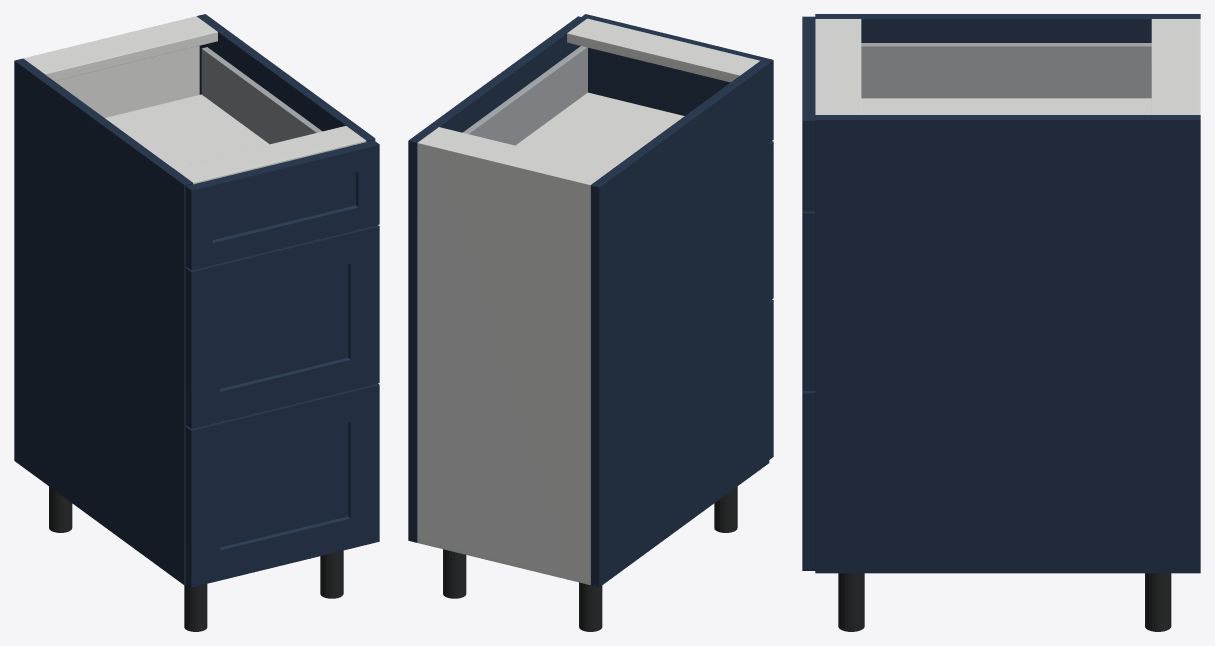
Rendered from oppein-pb-bss-3db15.glb.
3 views of the same model, side by side, from view 1: azimuth 30°, elevation 25°; view 2: azimuth 150°, elevation 25°; view 3: azimuth 270°, elevation 25° (orthographic). The views are drawn at different scales.
Parts seen in each view (by area): view 1: Cabinet side, Drawer front.001, Drawer front, Drawer front.002, Cabinet back, Drawer floor.002, Drawer side.005, Top support rail, Cabinet side.001, Top support rail.001, Adjustable foot.001, Adjustable foot.003 (+1 smaller); view 2: Cabinet side, Cabinet back, Cabinet side.001, Drawer floor.002, Drawer front.002, Drawer side.005, Top support rail.001, Top support rail, Cabinet bottom, Adjustable foot, Adjustable foot.002, Adjustable foot.001 (+2 smaller); view 3: Cabinet side.001, Drawer side.004, Cabinet side, Drawer floor.002, Top support rail.001, Top support rail, Drawer front.002, Drawer front, Drawer front.001, Adjustable foot.002, Adjustable foot.003, Cabinet back.
Part boxes in pixels (x1,y1,x2,y2): Cabinet side: (14, 58, 192, 585); Drawer front.001: (185, 225, 379, 428); Drawer front: (185, 383, 379, 587); Drawer front.002: (185, 140, 379, 270); Cabinet back: (23, 16, 199, 117); Drawer floor.002: (105, 94, 269, 167); Drawer side.005: (201, 47, 322, 144); Top support rail: (26, 18, 217, 80); Cabinet side.001: (197, 14, 375, 141); Top support rail.001: (173, 126, 366, 184); Adjustable foot.001: (184, 584, 207, 631); Adjustable foot.003: (320, 550, 343, 598); Cabinet side: (590, 61, 769, 587); Cabinet back: (417, 140, 593, 584); Cabinet side.001: (408, 16, 586, 542); Drawer floor.002: (516, 92, 684, 168); Drawer front.002: (582, 14, 773, 142); Drawer side.005: (463, 46, 587, 145); Top support rail.001: (567, 18, 759, 82); Top support rail: (421, 127, 611, 183); Cabinet bottom: (417, 534, 590, 584); Adjustable foot: (579, 582, 602, 631); Adjustable foot.002: (443, 549, 466, 598); Adjustable foot.001: (714, 486, 737, 532); Cabinet side.001: (815, 115, 1200, 573); Drawer side.004: (861, 43, 1151, 98); Cabinet side: (815, 14, 1200, 42); Drawer floor.002: (861, 98, 1151, 114); Top support rail.001: (815, 19, 861, 114); Top support rail: (1151, 19, 1193, 114); Drawer front.002: (802, 16, 815, 211); Drawer front: (802, 391, 815, 570); Drawer front.001: (802, 211, 815, 390); Adjustable foot.002: (1145, 573, 1171, 631); Adjustable foot.003: (838, 573, 864, 631); Cabinet back: (1193, 19, 1200, 114).
Size of the model in its own units: 0.381 by 0.8763 by 0.6064.
